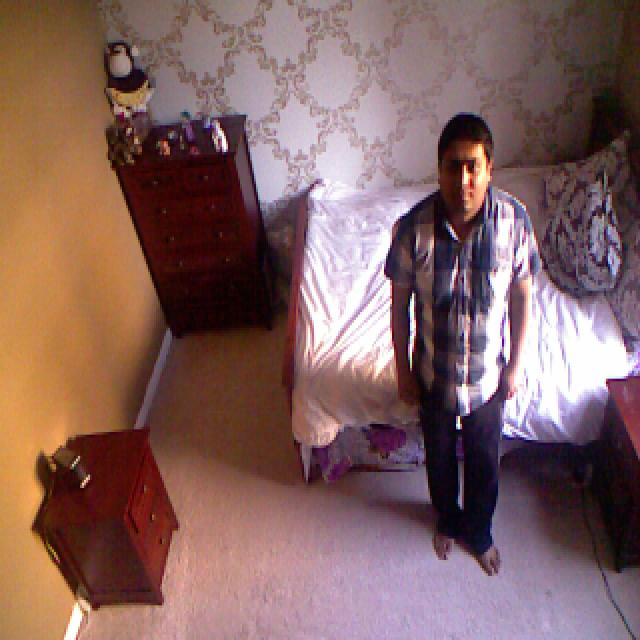standing: (383, 113, 534, 586)
